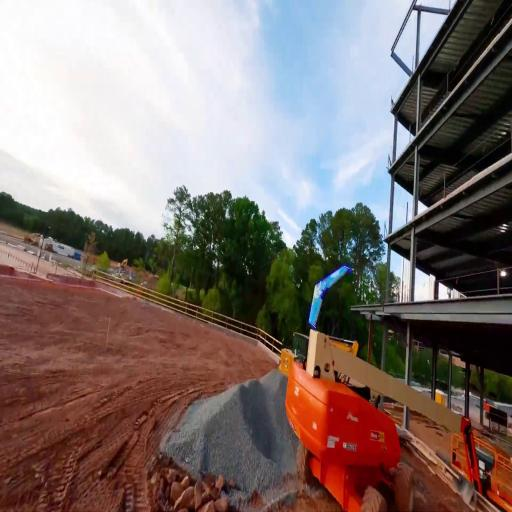uav: (308, 262, 352, 332)
